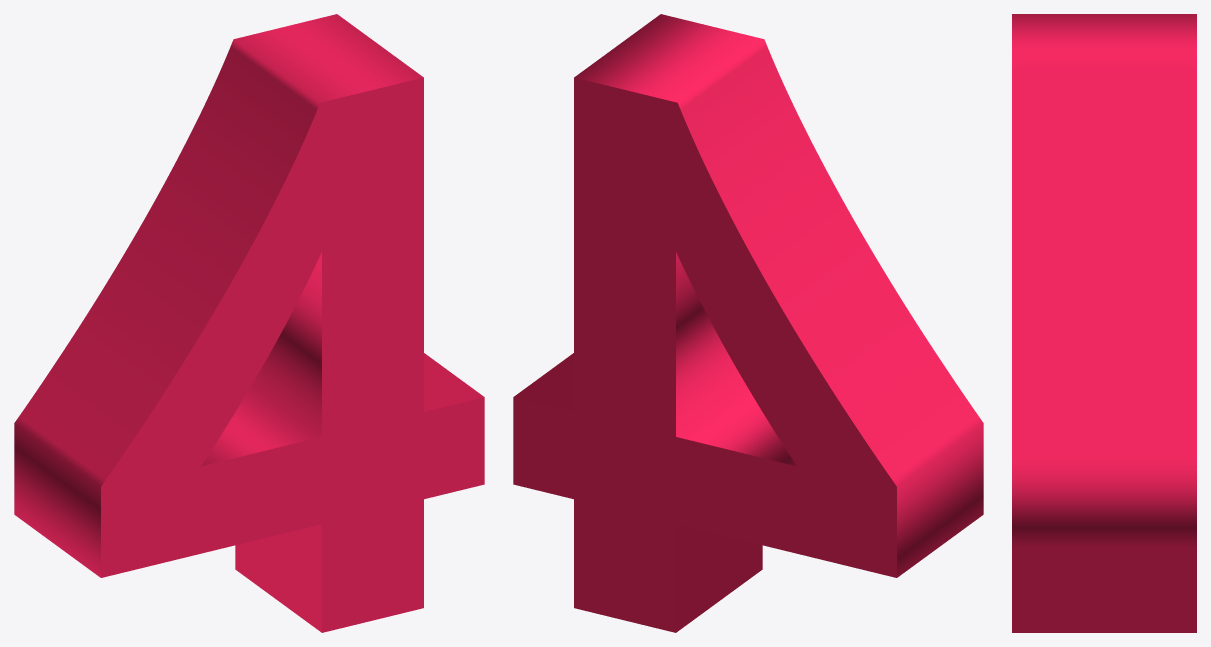
Rendered from score4.glb.
The picture shows the model from 3 angles, left to right: view 1: azimuth 30°, elevation 25°; view 2: azimuth 150°, elevation 25°; view 3: azimuth 270°, elevation 25°; orthographic projection. The views are drawn at different scales.
Visible parts, largest first — view 1: Text-col; view 2: Text-col; view 3: Text-col.
Boxes of the visible parts, x1,y1,x2,y2 form: Text-col: (14,14,484,632); Text-col: (513,14,983,632); Text-col: (1012,14,1196,632).
Bounding box in the file's own units: 0.3064 × 0.405 × 0.12.
